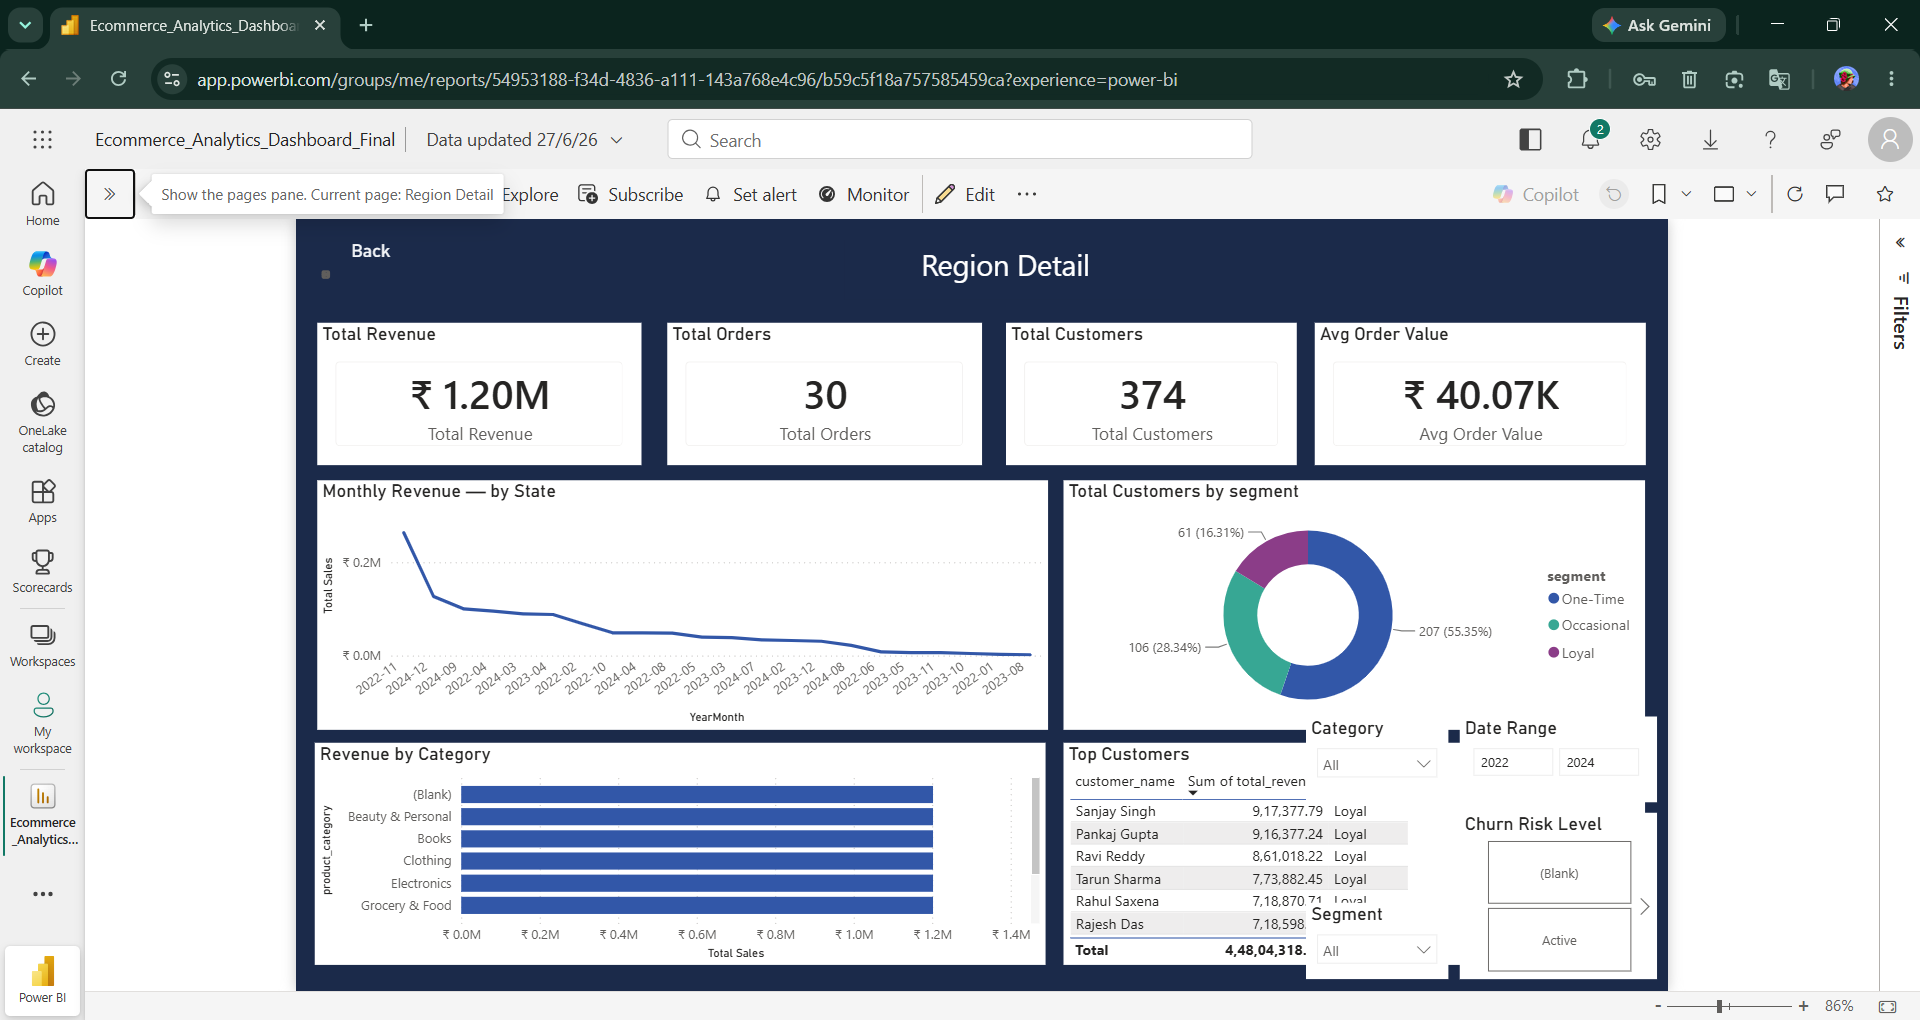

This screenshot's page, from the dashboard's own definition file:
{"tool":"powerbi","page":{"name":"Region Detail","canvas":[1280,720],"ordinal":1},"visuals":[{"type":"actionButton","title":"Back","box":[20,20,100,40],"z":0},{"type":"cardVisual","title":"Total Revenue","fields":{"Data":["_Measures.Total Sales"]},"box":[20,96.2,302.5,132.5],"z":1},{"type":"cardVisual","title":"Total Orders","fields":{"Data":["_Measures.Total Orders"]},"box":[346.2,96.2,293.8,132.5],"z":2},{"type":"cardVisual","title":"Total Customers","fields":{"Data":["_Measures.Total Customers"]},"box":[662.5,96.2,271.2,132.5],"z":3},{"type":"cardVisual","title":"Avg Order Value","fields":{"Data":["_Measures.Avg Order Value"]},"box":[950,96.2,308.8,132.5],"z":4},{"type":"lineChart","title":"Monthly Revenue — by State","fields":{"Category":["MonthlySales.YearMonth"],"Y":["_Measures.Total Sales"]},"box":[20,243.8,681.2,232.5],"z":5},{"type":"clusteredBarChart","title":"Revenue by Category","fields":{"Category":["CategorySummary.product_category"],"Y":["_Measures.Total Sales"]},"box":[17.5,488.8,681.2,207.5],"z":6},{"type":"donutChart","fields":{"Category":["CustomerSummary.segment"],"Y":["_Measures.Total Customers"]},"box":[716.2,243.8,542.5,232.5],"z":7},{"type":"tableEx","title":"Top Customers","fields":{"Values":["CustomerSummary.customer_name","Sum(CustomerSummary.total_revenue)","CustomerSummary.segment"]},"box":[716.2,488.8,542.5,207.5],"z":8},{"type":"textbox","box":[511.2,20,300,55],"z":9},{"type":"slicer","title":"Churn Risk Level","fields":{"Values":["ChurnRisk.churn_risk"]},"box":[1085,553.8,183.8,155],"z":10},{"type":"slicer","title":"Segment","fields":{"Values":["CustomerSummary.segment"]},"box":[942.5,637.5,132.5,71.2],"z":11},{"type":"slicer","title":"Category","fields":{"Values":["CategorySummary.product_category"]},"box":[942.5,463.8,132.5,80],"z":12},{"type":"slicer","title":"Date Range","fields":{"Values":["MonthlySales.year"]},"box":[1085,463.8,183.8,80],"z":13}]}

Visuals, with their boxes on the page's 1280x720 design canvas (x1, y1, x2, y2). These are canvas units, not pixel positions in the 1920x1020 screenshot, which may show the page scaled, cropped or inside an application window:
"Back" actionButton: 20, 20, 120, 60
"Total Revenue" cardVisual: 20, 96, 322, 229
"Total Orders" cardVisual: 346, 96, 640, 229
"Total Customers" cardVisual: 662, 96, 934, 229
"Avg Order Value" cardVisual: 950, 96, 1259, 229
"Monthly Revenue — by State" lineChart: 20, 244, 701, 476
"Revenue by Category" clusteredBarChart: 18, 489, 699, 696
donutChart - CustomerSummary.segment x _Measures.Total Customers: 716, 244, 1259, 476
"Top Customers" tableEx: 716, 489, 1259, 696
textbox: 511, 20, 811, 75
"Churn Risk Level" slicer: 1085, 554, 1269, 709
"Segment" slicer: 942, 638, 1075, 709
"Category" slicer: 942, 464, 1075, 544
"Date Range" slicer: 1085, 464, 1269, 544
